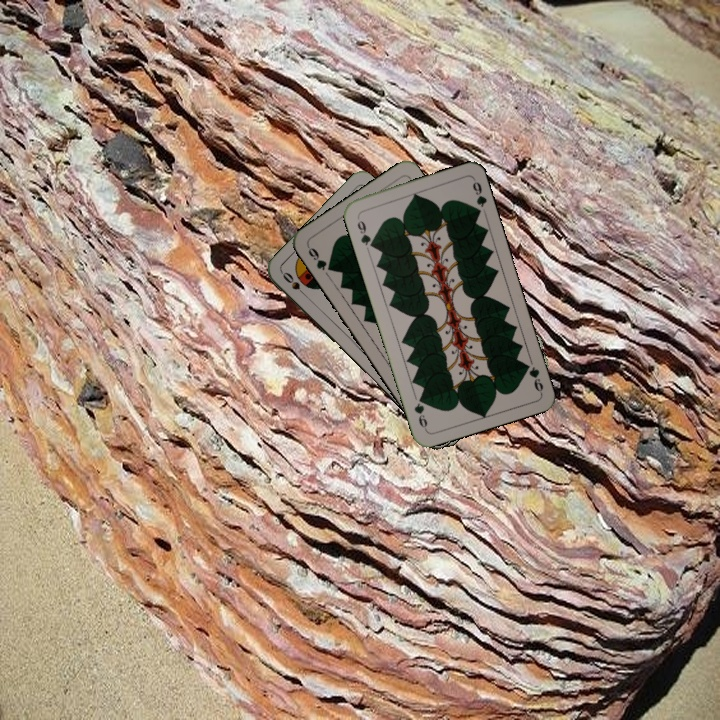G9: (303, 242, 336, 274), (519, 358, 546, 395), (353, 216, 377, 250)
SO: (278, 268, 311, 301)
